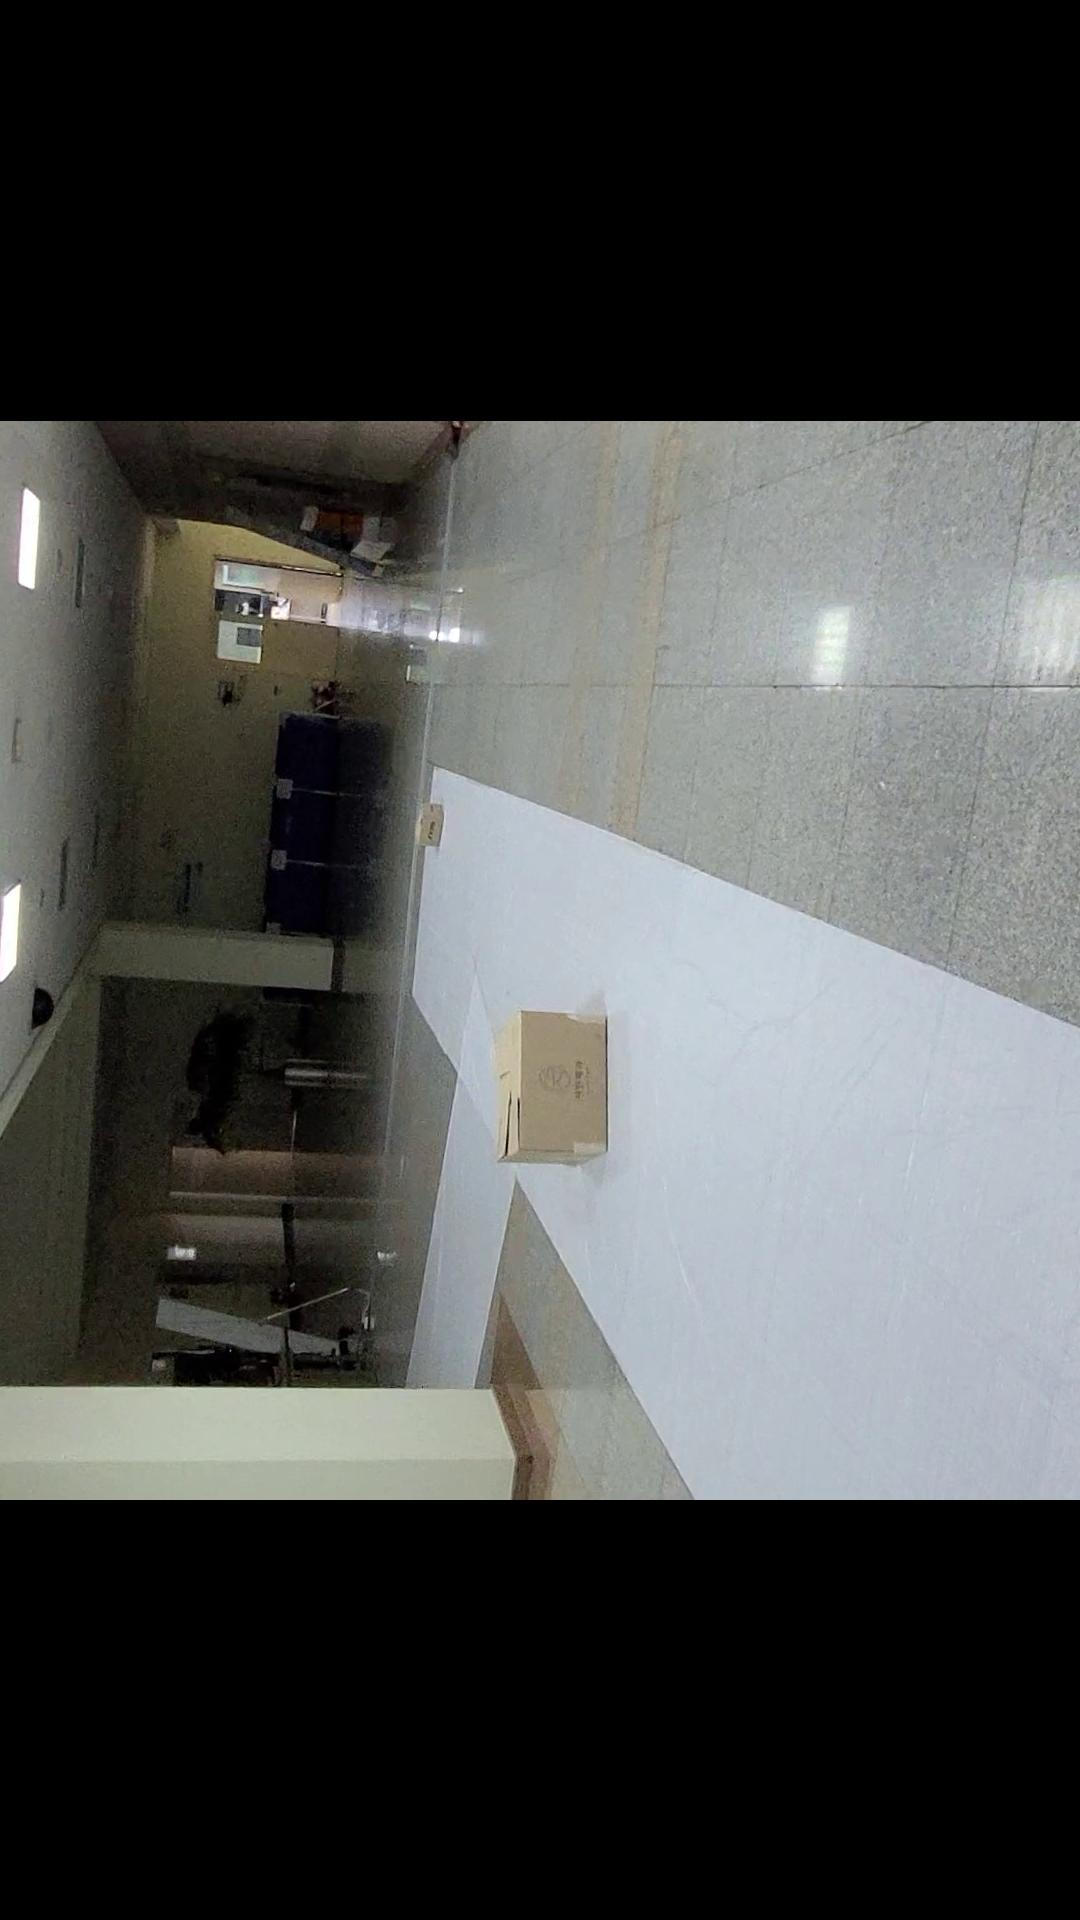Box: (475, 982, 640, 1199), (388, 758, 491, 866)
